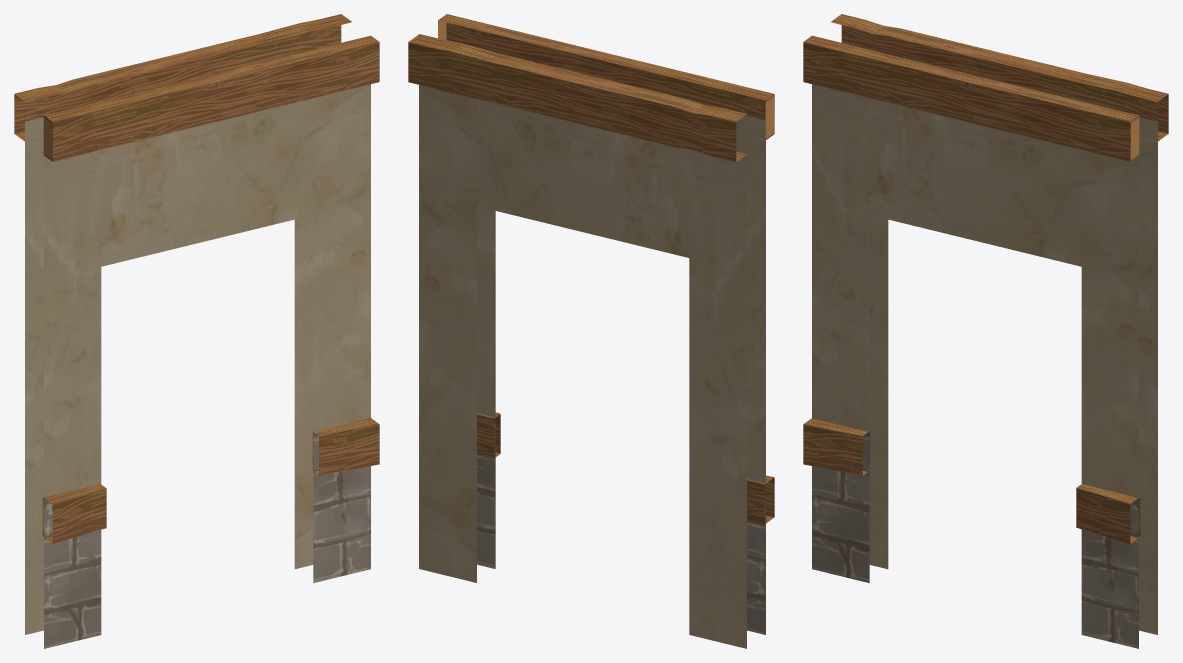
The model's file is Wall_Plaster_Door_Flat.glb.
3 renders of one model, left to right at view 1: azimuth 30°, elevation 25°; view 2: azimuth 150°, elevation 25°; view 3: azimuth 330°, elevation 25°, orthographic.
Visible parts, largest first — view 1: Wall_Plaster_Door_Flat; view 2: Wall_Plaster_Door_Flat; view 3: Wall_Plaster_Door_Flat.
Part boxes in pixels (x1=…): Wall_Plaster_Door_Flat: x1=14, y1=14, x2=379, y2=648; Wall_Plaster_Door_Flat: x1=408, y1=14, x2=774, y2=648; Wall_Plaster_Door_Flat: x1=803, y1=14, x2=1168, y2=648.
Size of the model in its own units: 2 by 3.12 by 0.4065.
Materials: 3 (3 with a texture image).
